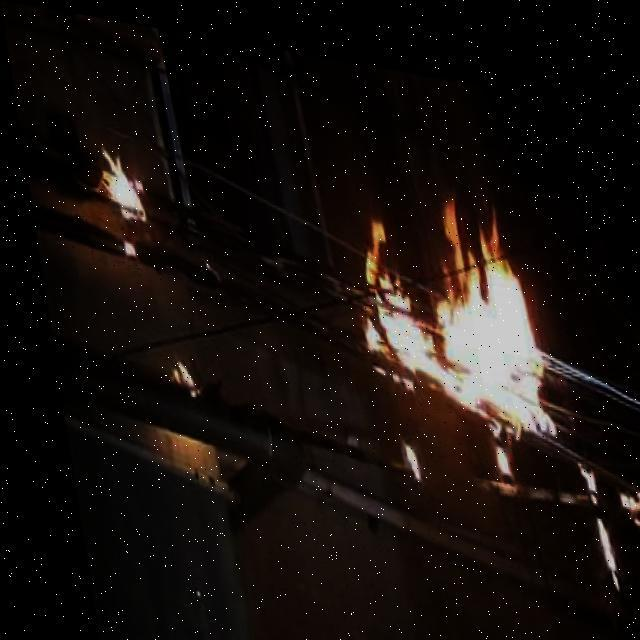Fire: (330, 176, 551, 454), (85, 132, 155, 264)
